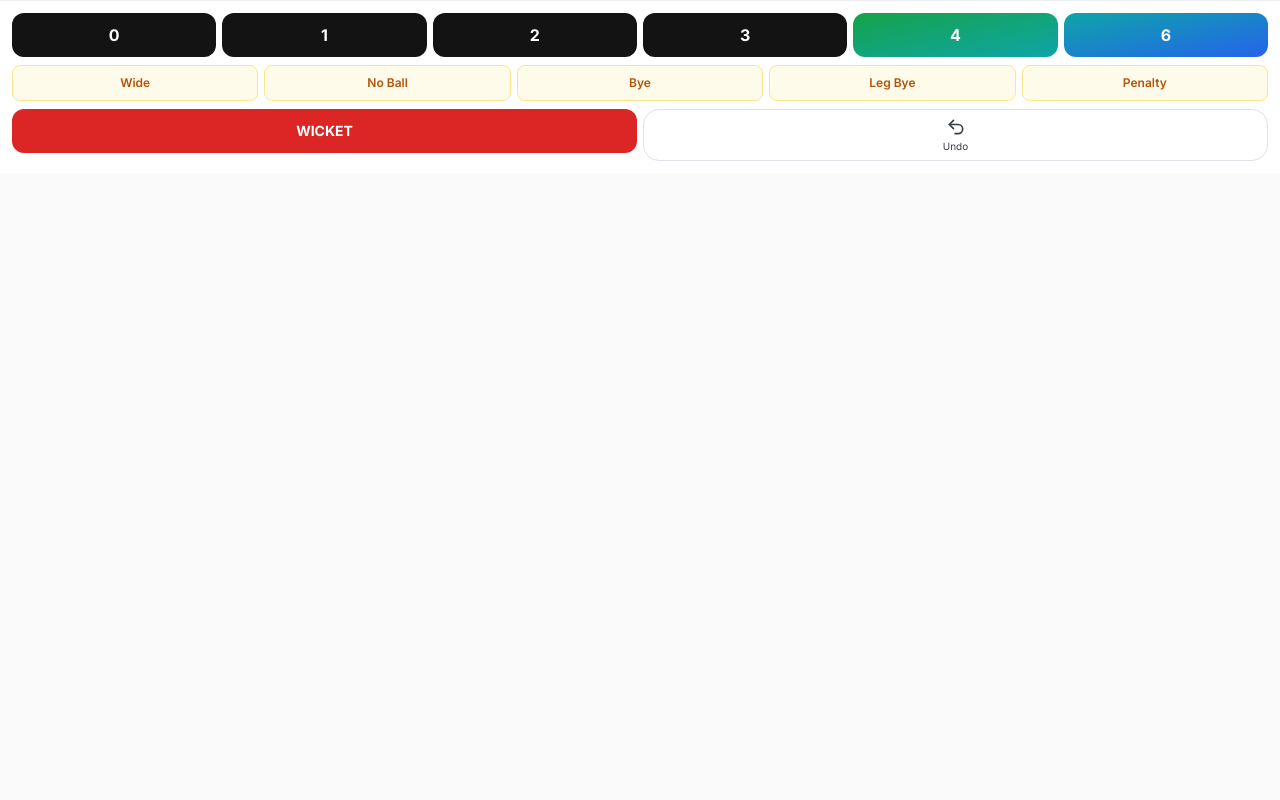
Test case: BallInputPanel › clicking "Wide" opens sheet WITHOUT option 6
Click the button "Wide": [135, 83] box x1=12 y1=65 x2=258 y2=101
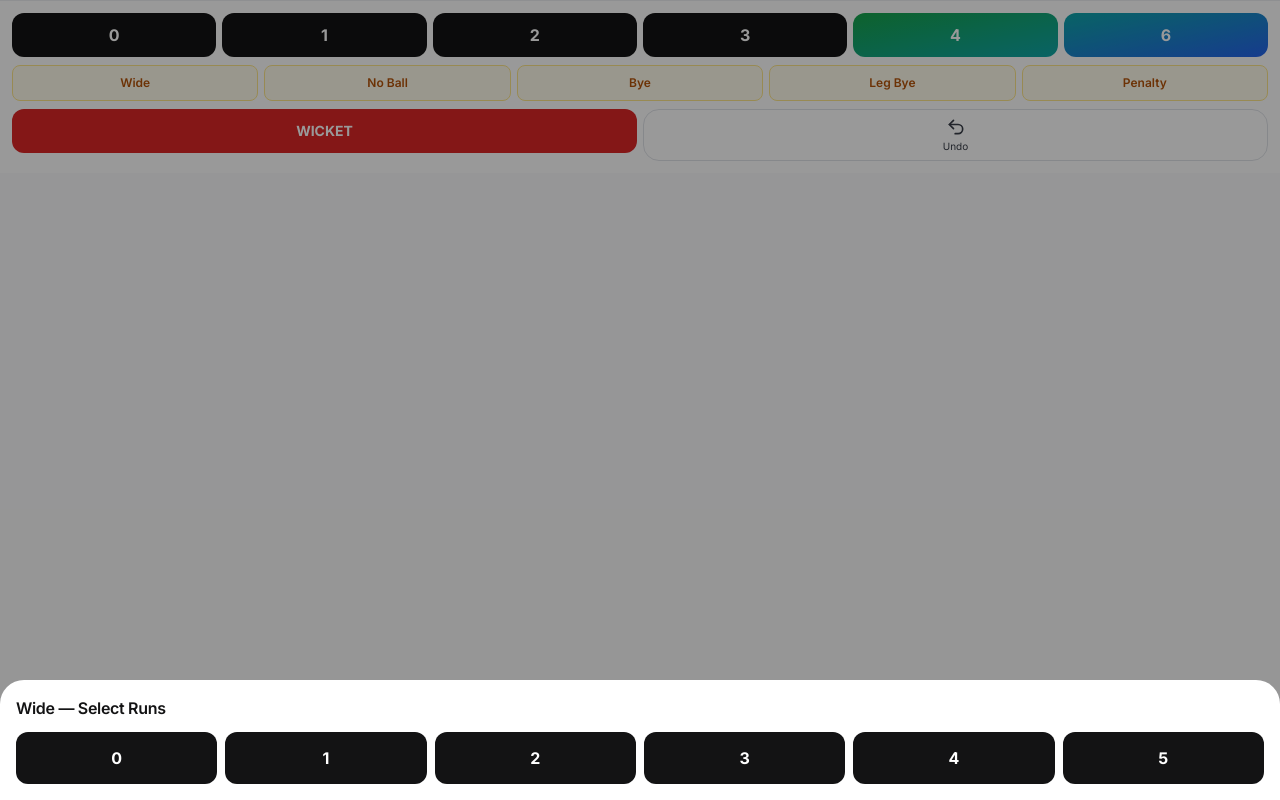
Check: the number of buttons "6" is 1, box x1=1064 y1=13 x2=1268 y2=57
Check: the heading "wide — select runs" is shown, box x1=16 y1=698 x2=166 y2=718
